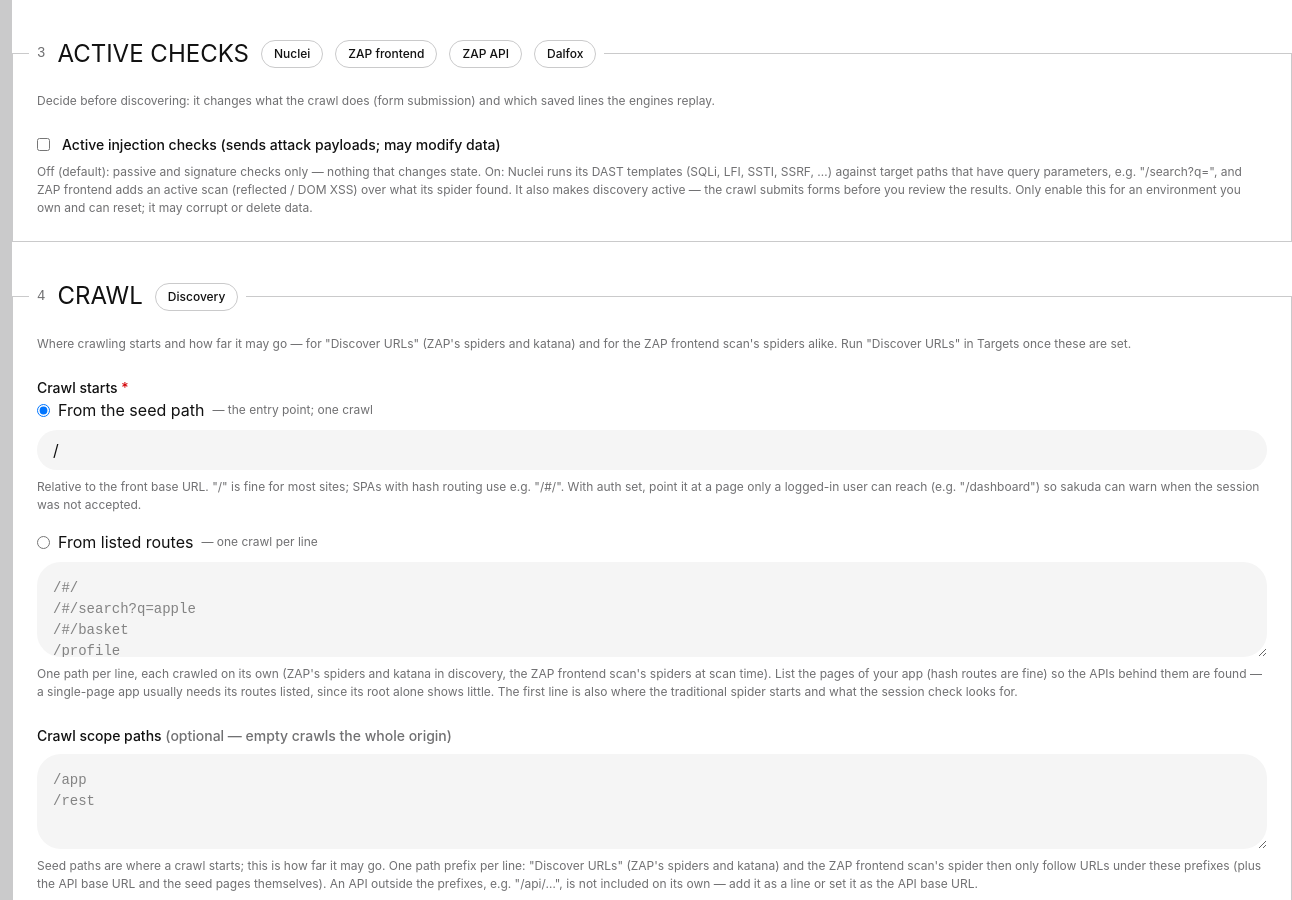
Scenario: SiteForm › crawl starts (seed path vs listed routes) › blocks submit with a message when the chosen start has nothing in it
(page scrolled)
Clear the field with test id "zap-fe-seed-path" at (652, 450), box x1=37 y1=430 x2=1267 y2=470
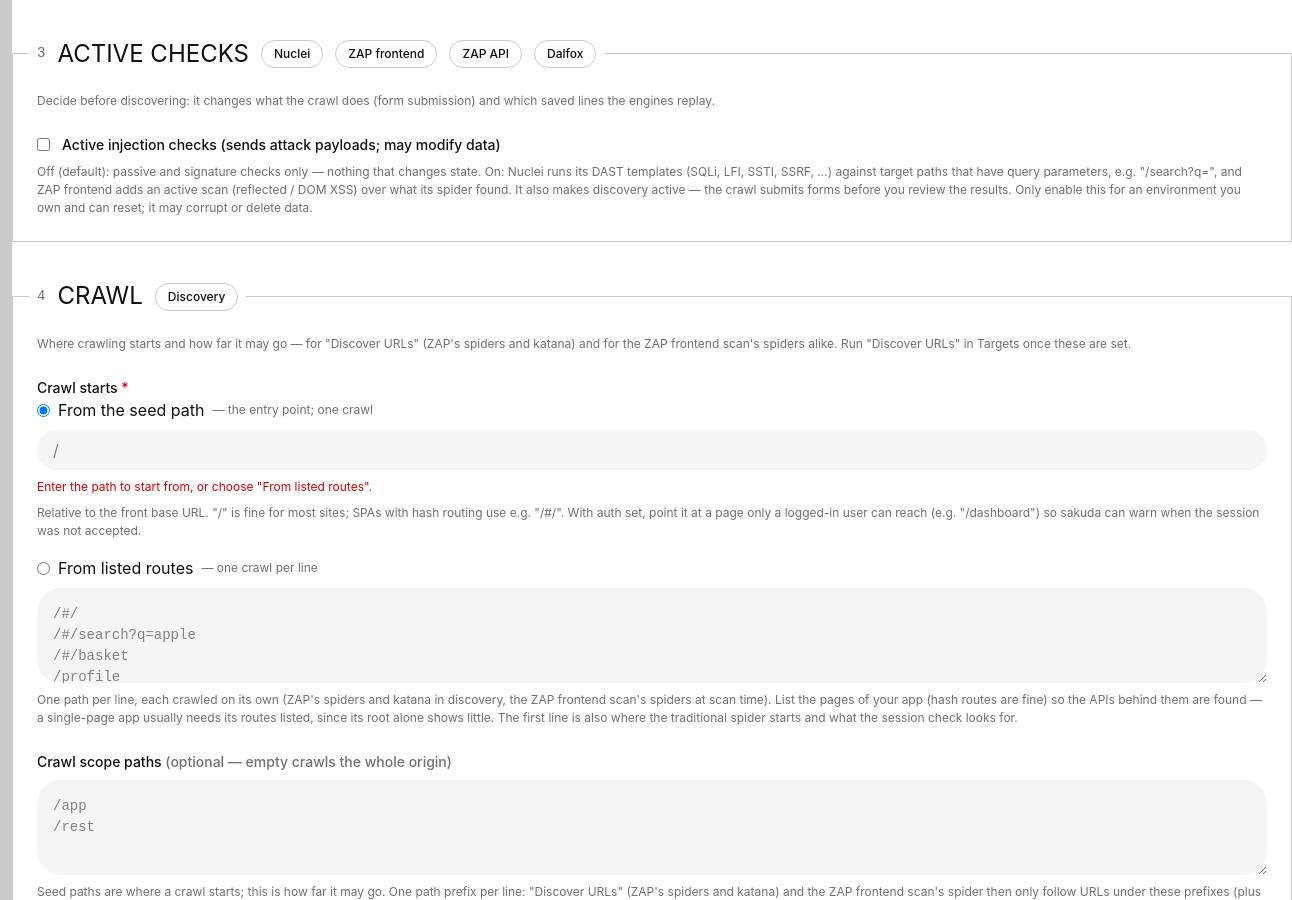
Expected: the text with test id "discovery-start-error" is shown, x1=37 y1=479 x2=372 y2=494
Click the radio button with test id "discovery-start-listed" at (44, 568), box x1=37 y1=562 x2=50 y2=575
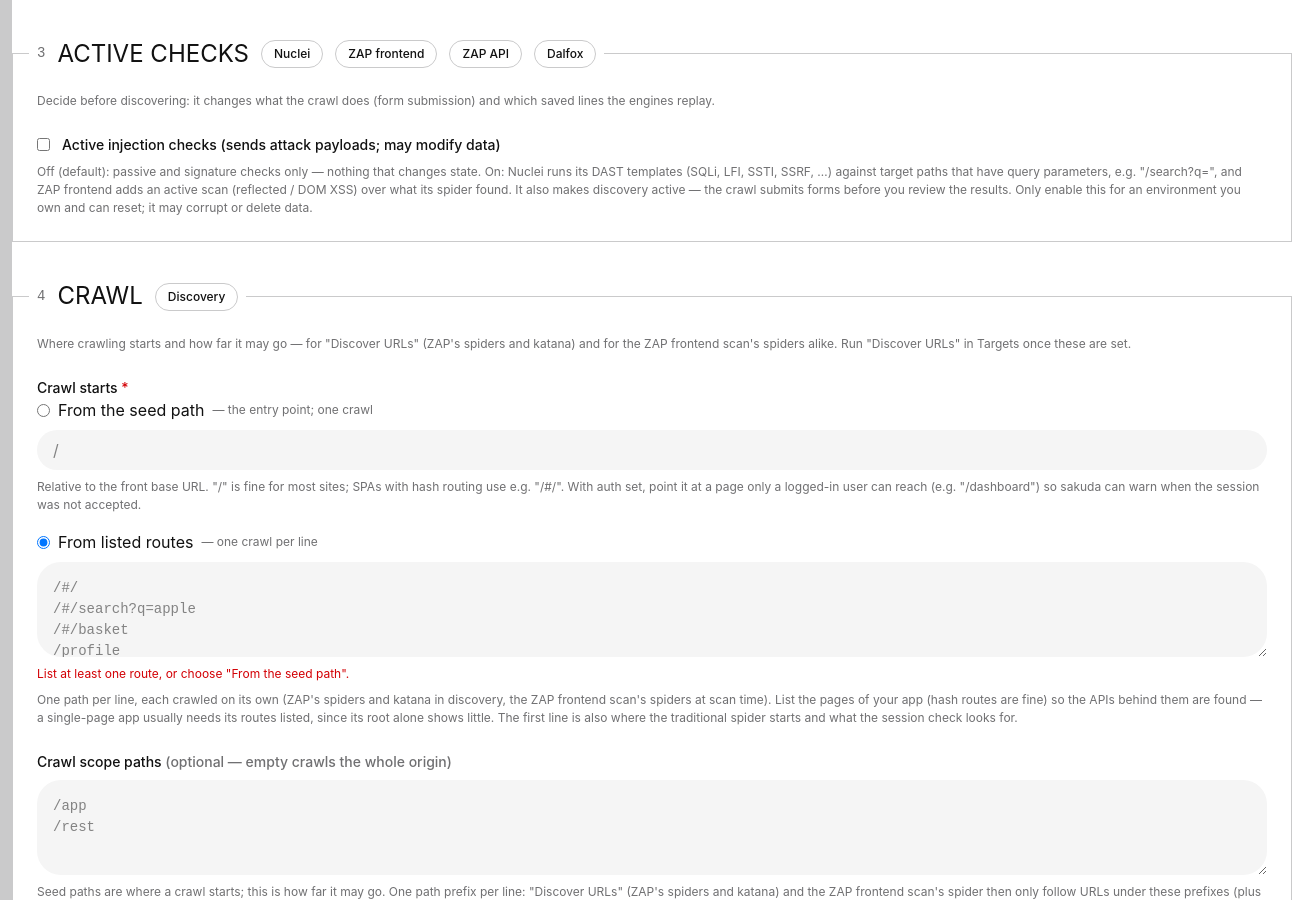
Expected: the text "List at least one route, or choose \"From the seed path\"." is shown, x1=37 y1=666 x2=349 y2=681
Type "/#/basket" into the text box with test id "discovery-seed-paths" at (652, 610), box x1=37 y1=562 x2=1267 y2=657
(page scrolled)
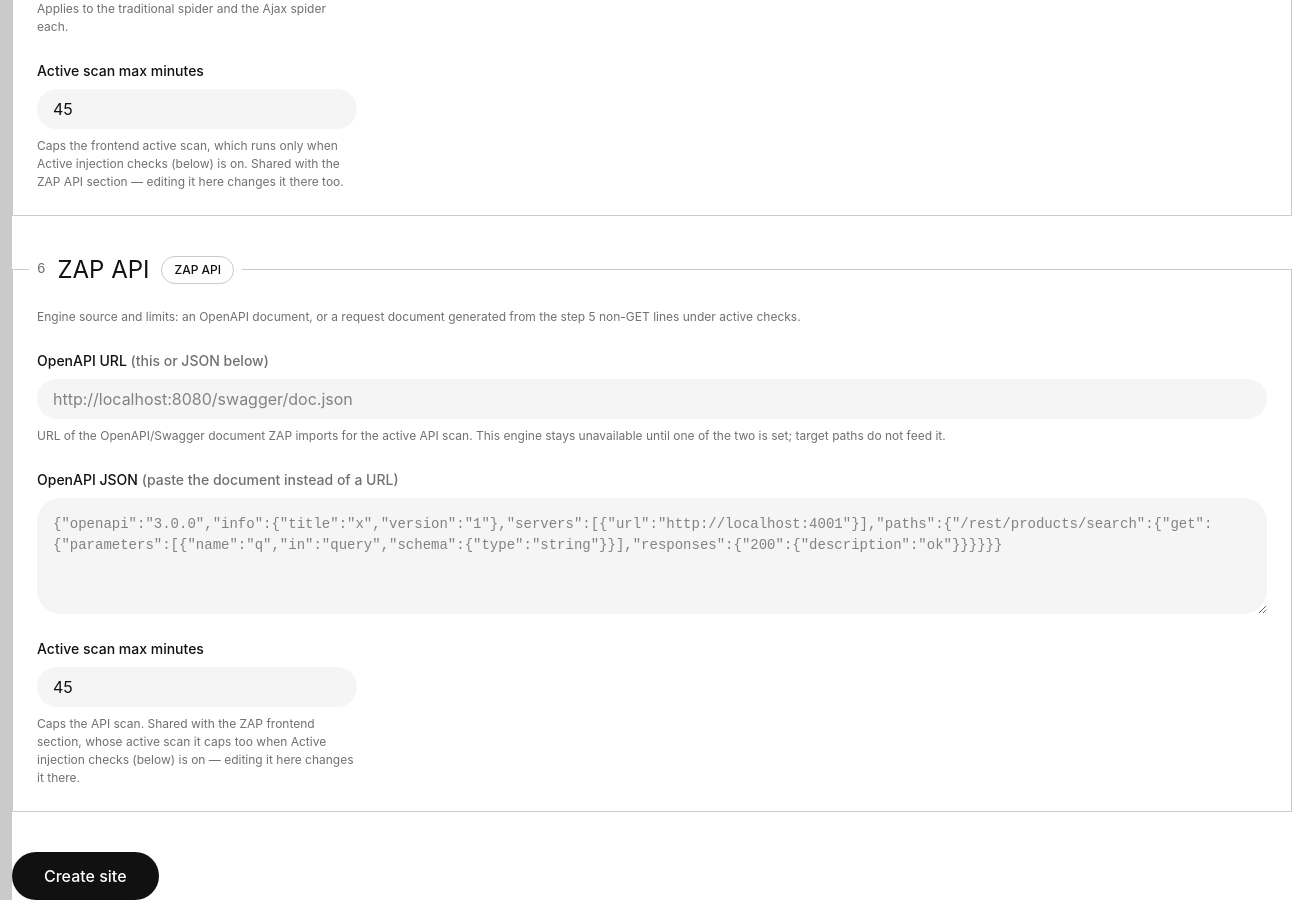
Expected: the button with test id "submit" is enabled, x1=12 y1=852 x2=158 y2=899
